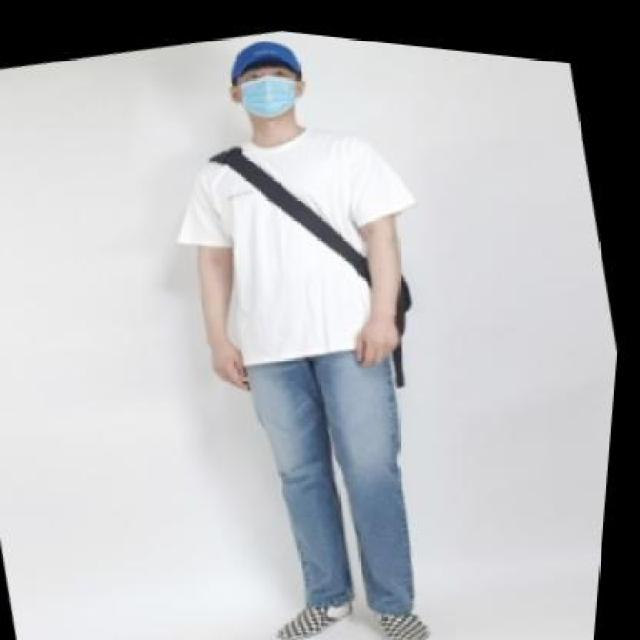hat: (218, 19, 310, 93)
